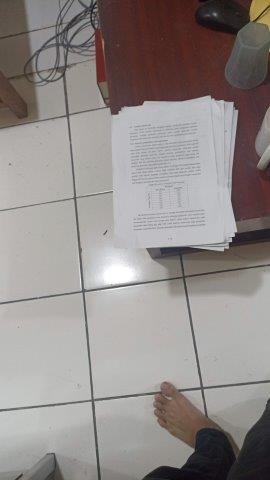kertas: (110, 97, 237, 252)
